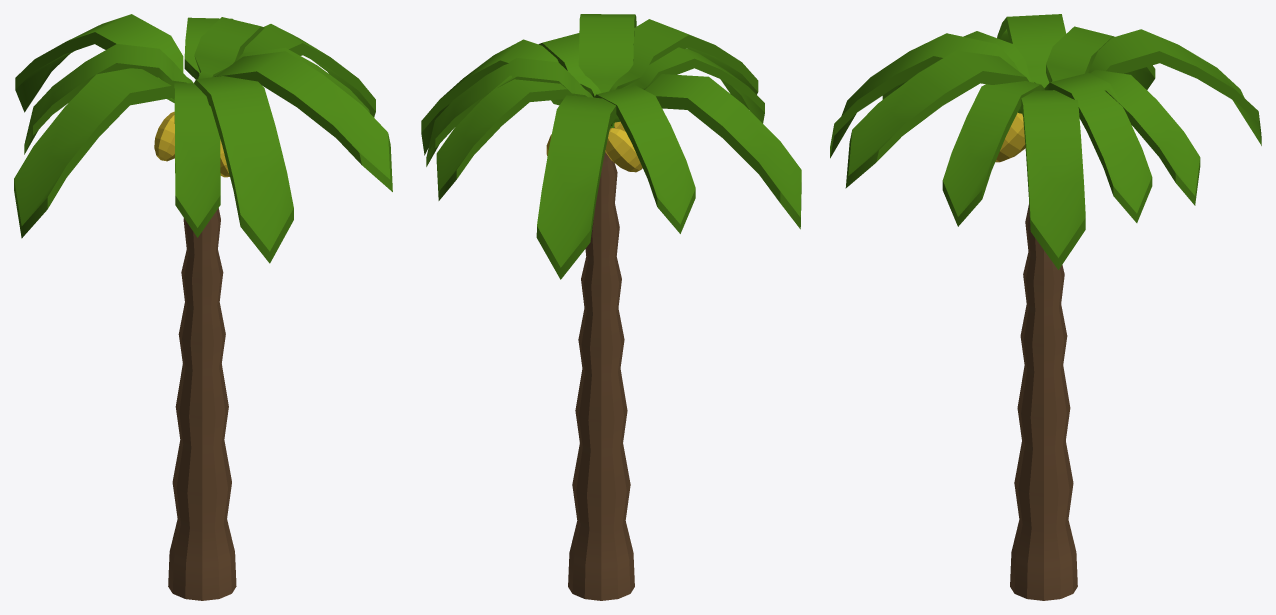
The model's file is tree2.fbx.
3 renders of one model, left to right at view 1: azimuth 30°, elevation 25°; view 2: azimuth 150°, elevation 25°; view 3: azimuth 270°, elevation 25°, orthographic. The views are drawn at different scales.
Parts seen in each view (by area): view 1: polySurface10; view 2: polySurface10; view 3: polySurface10.
Part boxes in pixels (<box>): polySurface10: <box>14,14,392,600</box>; polySurface10: <box>421,14,801,600</box>; polySurface10: <box>830,14,1261,600</box>.
Size of the model in its own units: 31.28 by 44.59 by 32.23.
